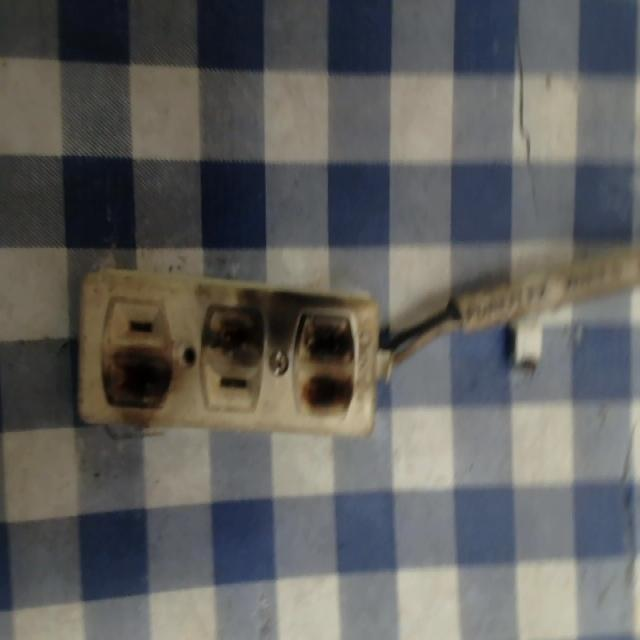-: (284, 297, 366, 428), (90, 338, 175, 422), (186, 291, 268, 360)
